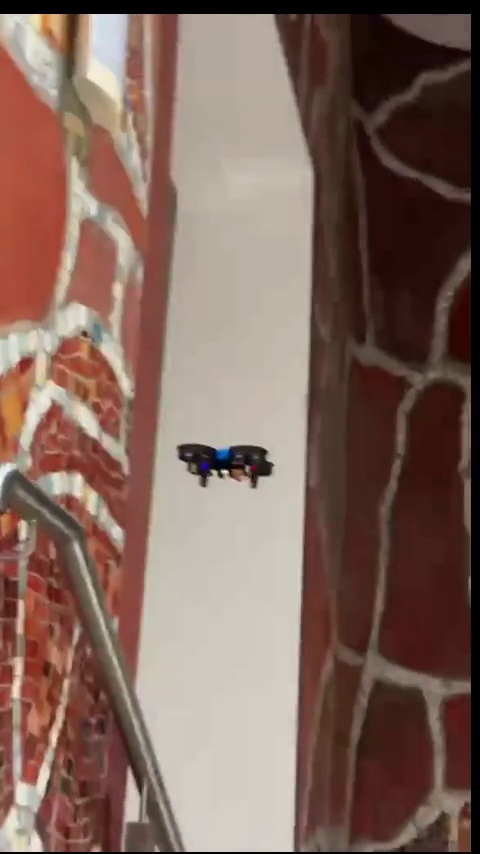drone: (174, 443, 273, 492)
